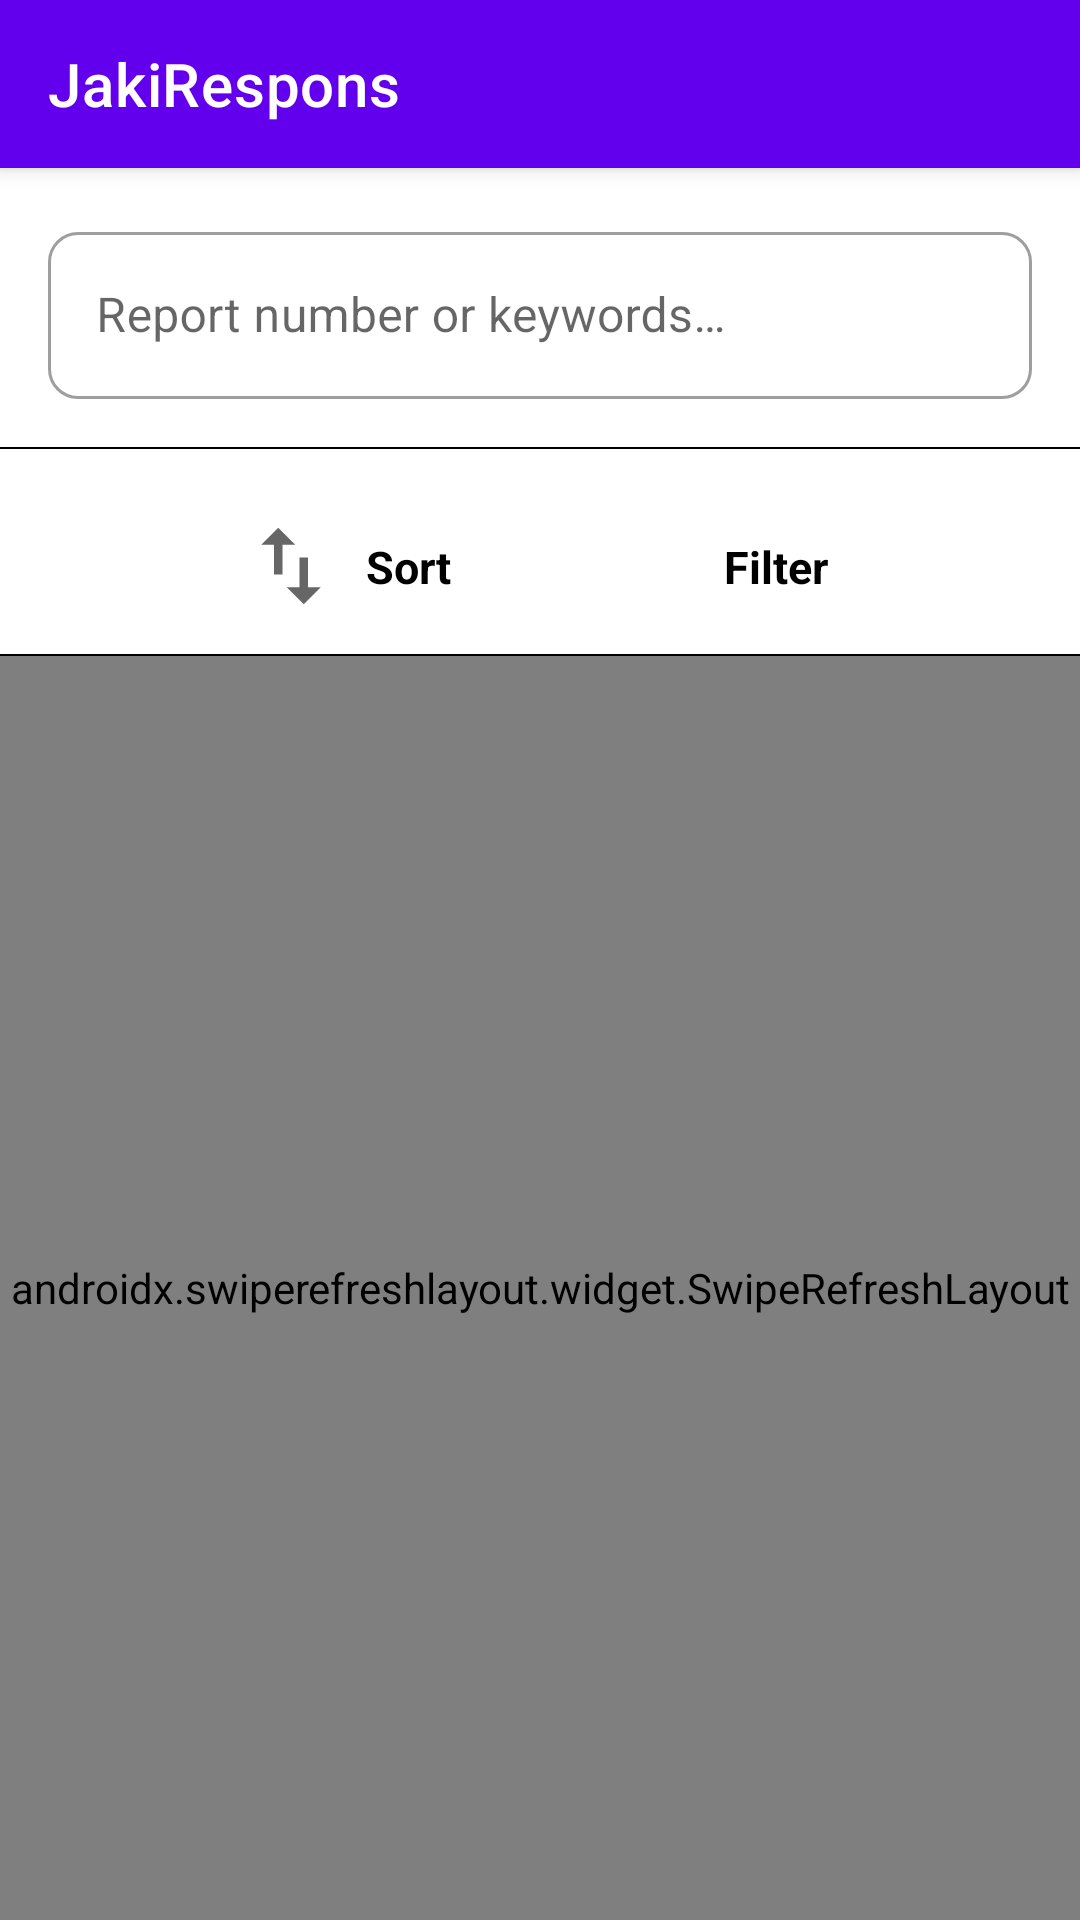

Where icons sit on this 1080*1920 app screen, as (x1, y1, x2, y2):
swap vert: (261, 528, 321, 604)
